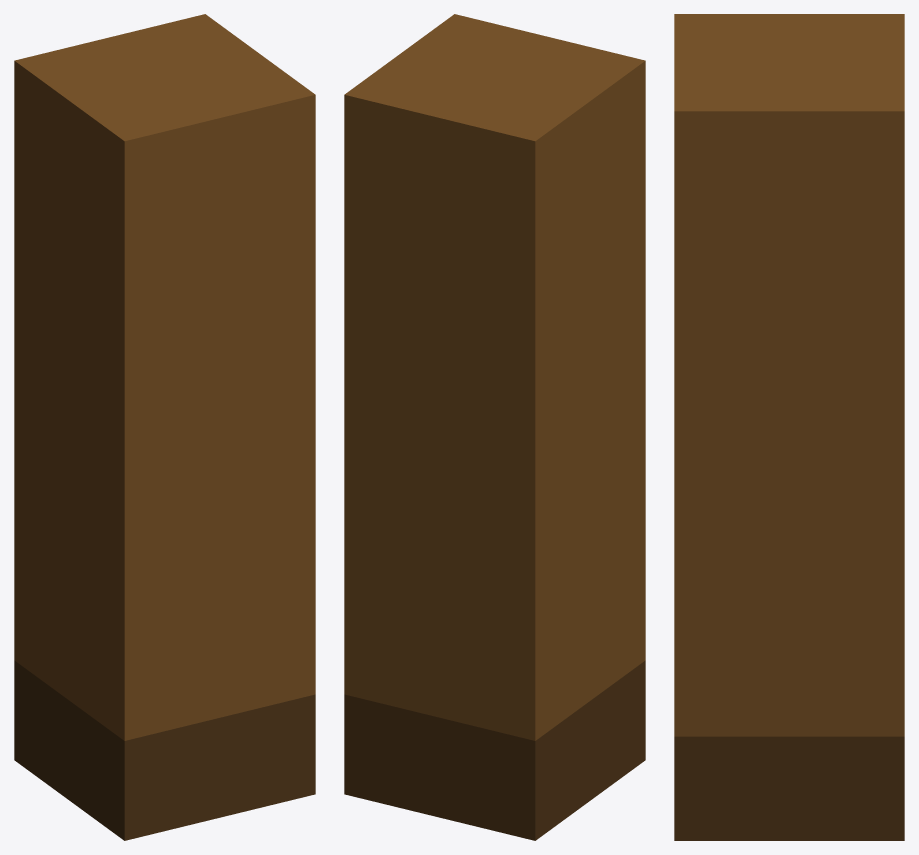
The model's file is Animals-22.obj.
3 views of the same model, side by side, from view 1: azimuth 30°, elevation 25°; view 2: azimuth 150°, elevation 25°; view 3: azimuth 270°, elevation 25° (orthographic). The views are drawn at different scales.
Size of the model in its own units: 0.2 by 0.7 by 0.2.
1 material, 1 textured.
